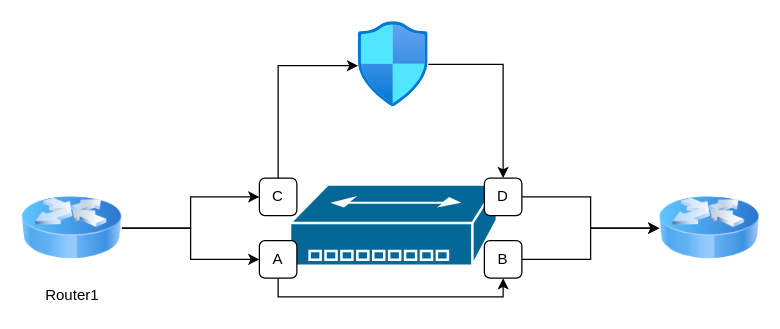
The diagram is 780 pixels wide and 329 high, and some of its shapes have lost their labels. The shapes that lost their labels are listed below. From the top down, each one's centre as x and y in pixels, then its label:
pixel 393 63: DPI
pixel 393 224: Bypass tap
pixel 709 228: Router2
